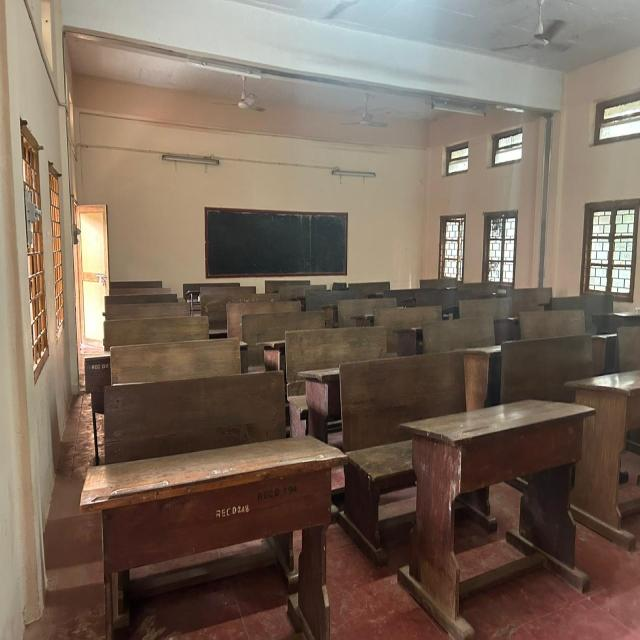Table ahead at: (82, 433, 336, 640), (402, 393, 598, 640), (105, 384, 288, 436), (339, 360, 474, 412), (501, 337, 620, 380), (113, 340, 245, 374), (286, 326, 416, 358), (244, 309, 341, 331)
